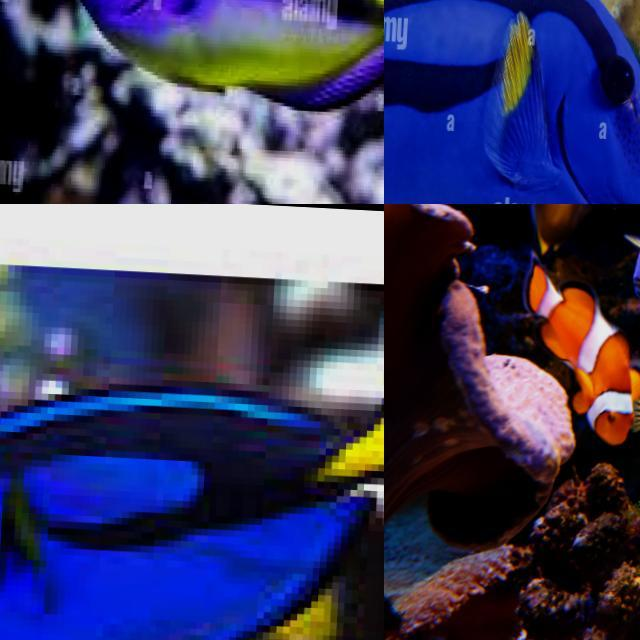BlueTang: (0, 303, 384, 640), (48, 0, 384, 178), (384, 0, 640, 204)
